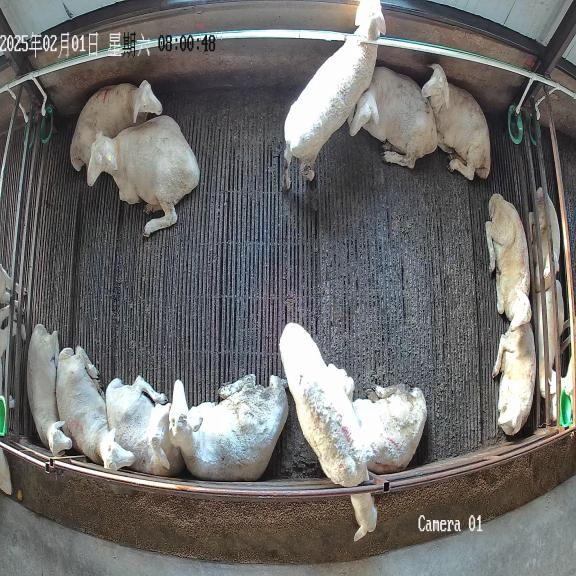eating: (279, 322, 377, 541)
lying: (88, 116, 199, 236), (169, 375, 288, 481), (56, 346, 135, 470), (347, 66, 437, 168), (70, 80, 162, 170), (105, 376, 185, 476), (422, 64, 490, 180), (353, 384, 427, 474), (486, 194, 531, 329), (27, 324, 72, 454), (493, 322, 536, 435)
stand: (284, 0, 386, 189)
